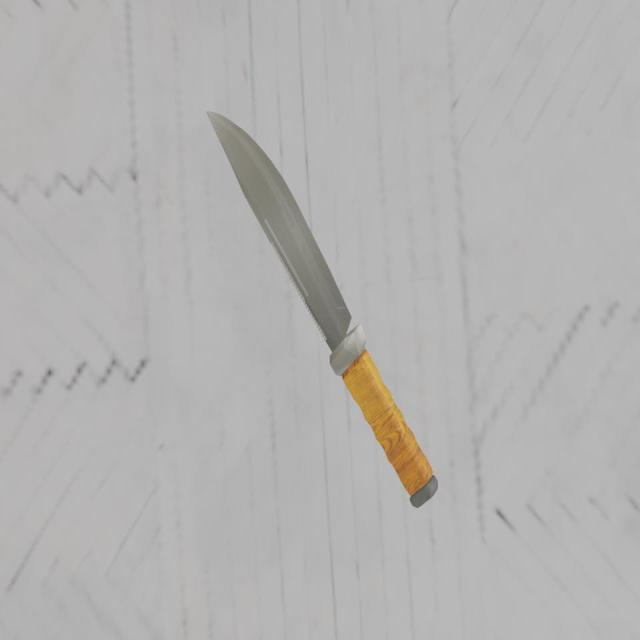knife: (336, 334, 432, 508)
